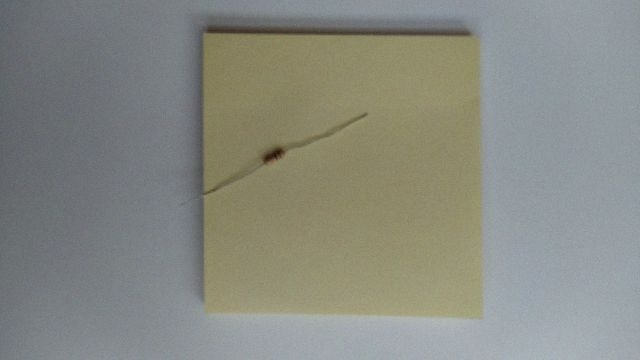resistor: (264, 150, 285, 166)
